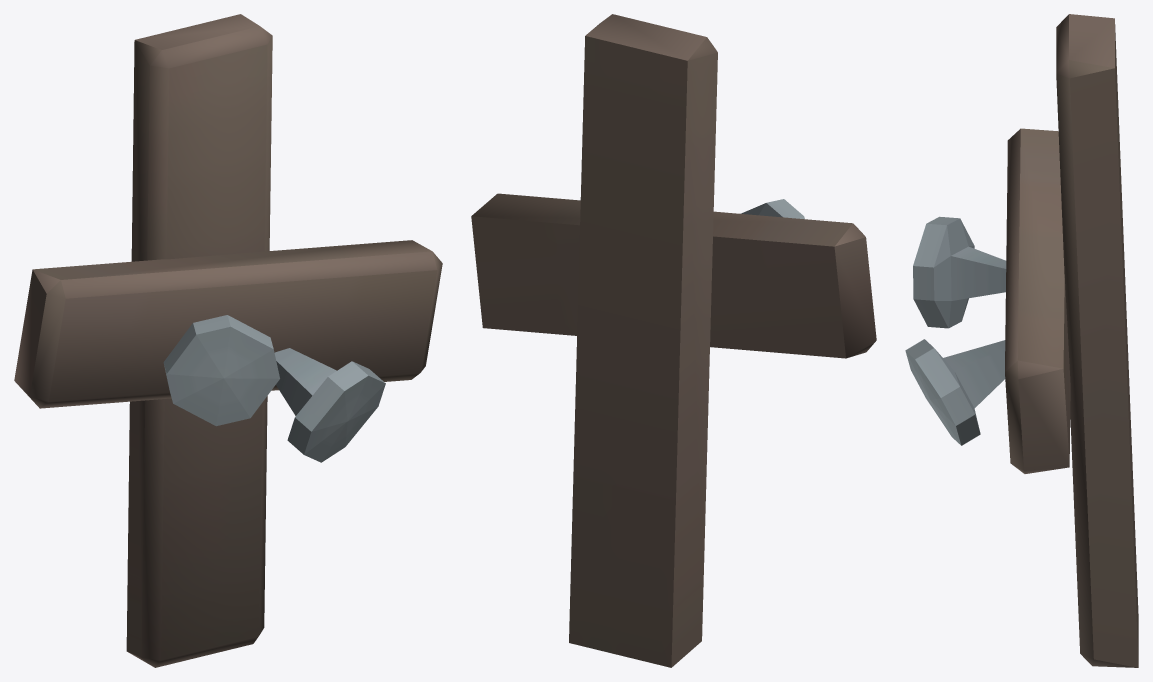
The model's file is gravemarker.0f01fbd8.glb.
3 views of the same model, side by side, from view 1: azimuth 30°, elevation 25°; view 2: azimuth 150°, elevation 25°; view 3: azimuth 270°, elevation 25° (orthographic). The views are drawn at different scales.
Visible parts, largest first — view 1: gravemarker_B; view 2: gravemarker_B; view 3: gravemarker_B.
Part boxes in pixels (x1,y1,x2,y2): gravemarker_B: (14, 14, 442, 667); gravemarker_B: (471, 14, 876, 667); gravemarker_B: (905, 14, 1138, 667).
Size of the model in its own units: 0.8029 by 1.18 by 0.4132.
Materials: 1 (1 with a texture image).
